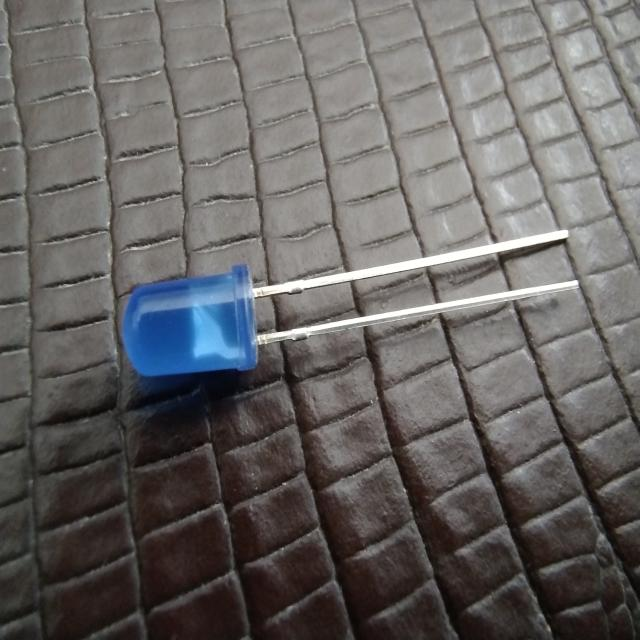blue_led: (121, 262, 258, 378)
